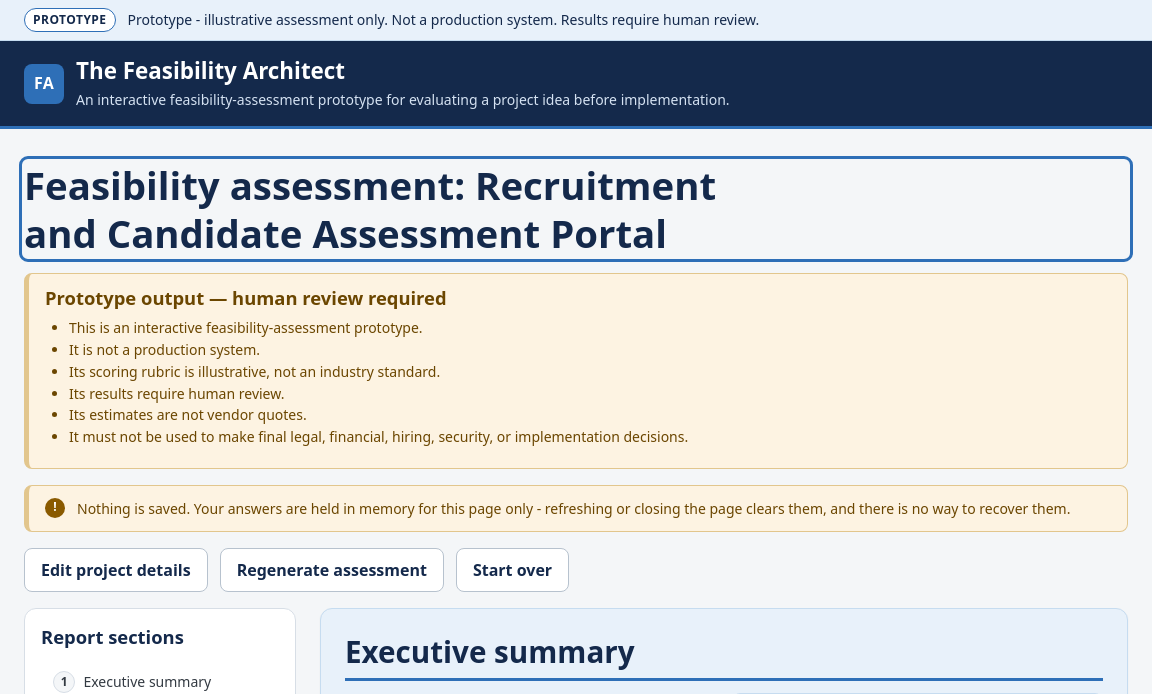
Test: report actions › returns to the review screen without losing the intake
Click the button "Edit project details" at point(116, 570), box [24,548,208,592]
(page scrolled)
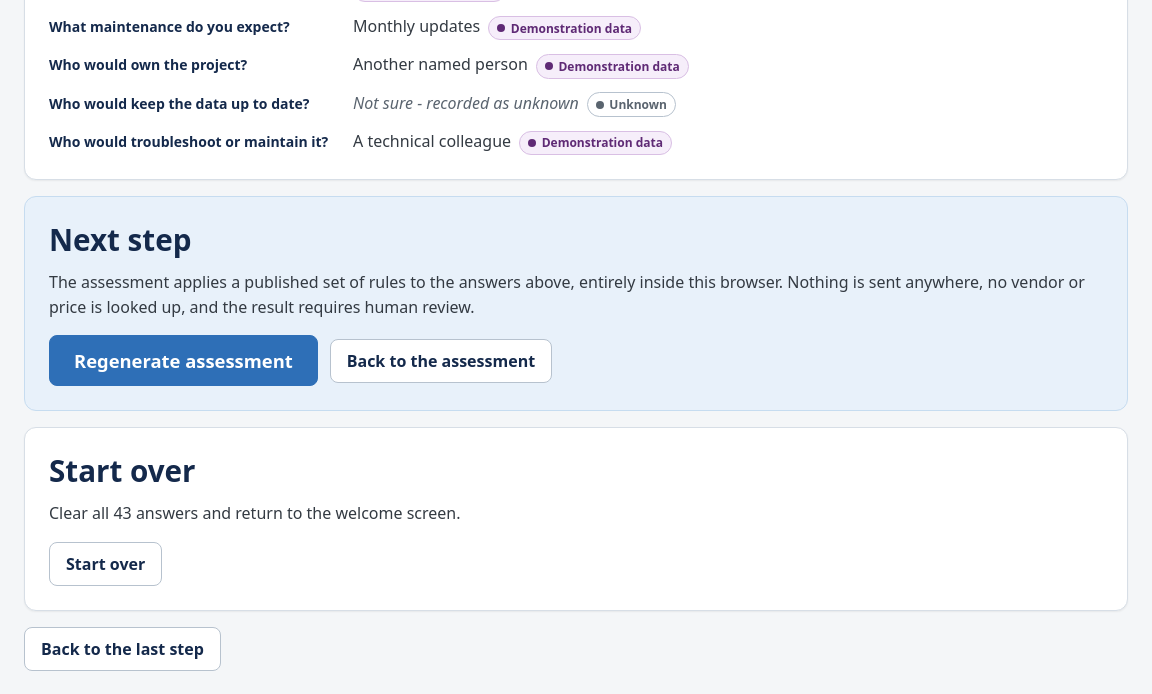
Now the button "Back to the assessment" is shown, box [330,339,552,383]
